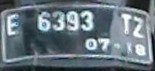plate: (1, 5, 154, 68)
